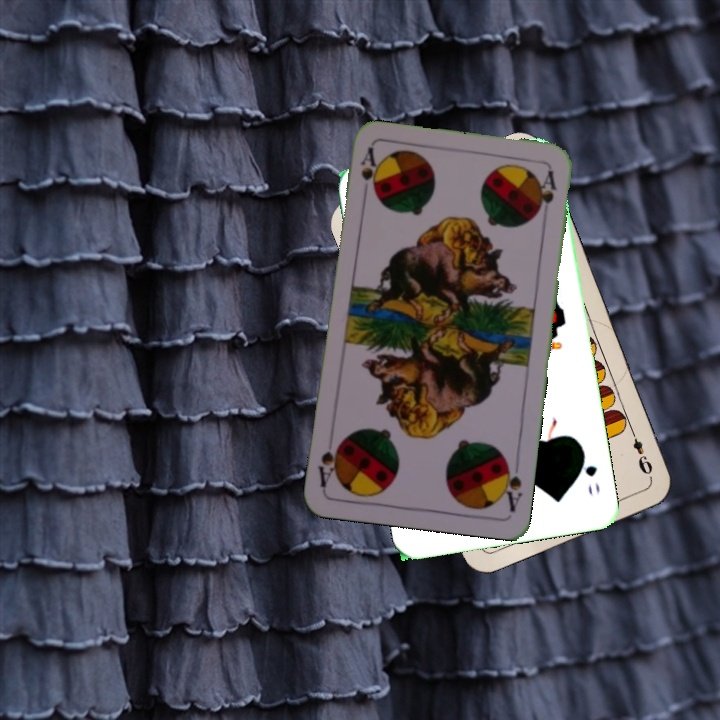E9: (626, 424, 656, 481)
GO: (576, 446, 603, 498)
SA: (497, 454, 525, 514), (356, 144, 378, 204)
